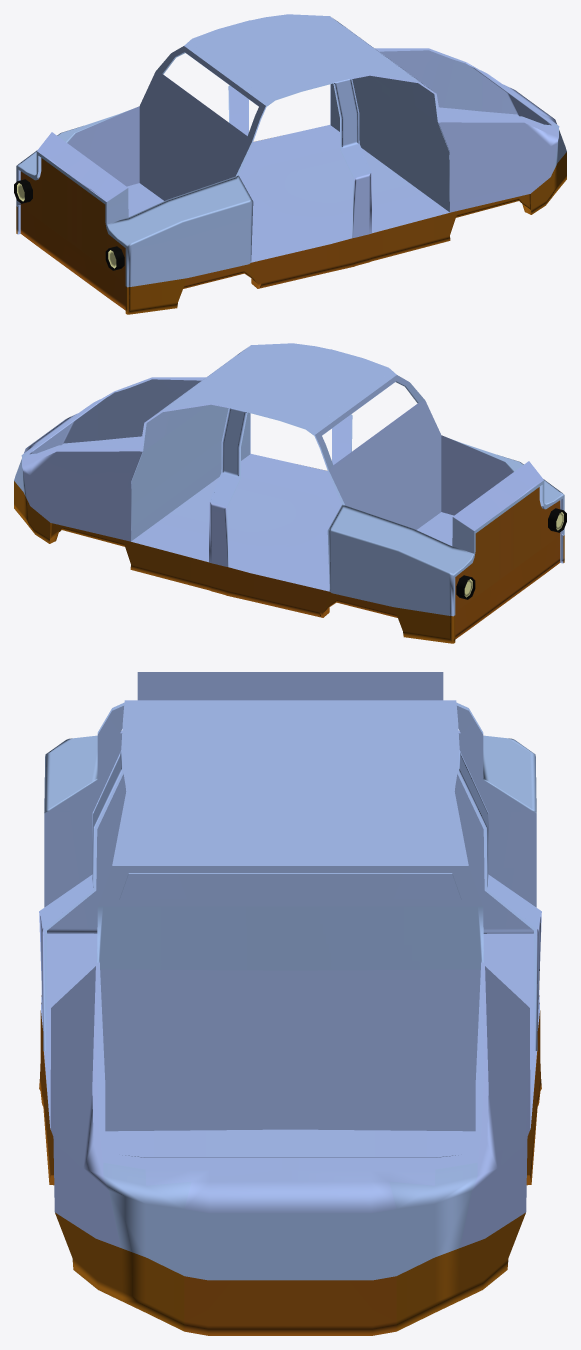
File: LatariaCarro.fbx
3 renders of one model, top to bottom at view 1: azimuth 30°, elevation 25°; view 2: azimuth 150°, elevation 25°; view 3: azimuth 270°, elevation 25°, orthographic. The views are drawn at different scales.
Visible parts, largest first — view 1: LatariaCarro; view 2: LatariaCarro; view 3: LatariaCarro.
Part boxes in pixels (box(x1,y1,x2,y2)): LatariaCarro: box(14, 14, 566, 314); LatariaCarro: box(14, 343, 566, 643); LatariaCarro: box(39, 672, 541, 1335).
Size of the model in its own units: 368 by 125 by 167.
